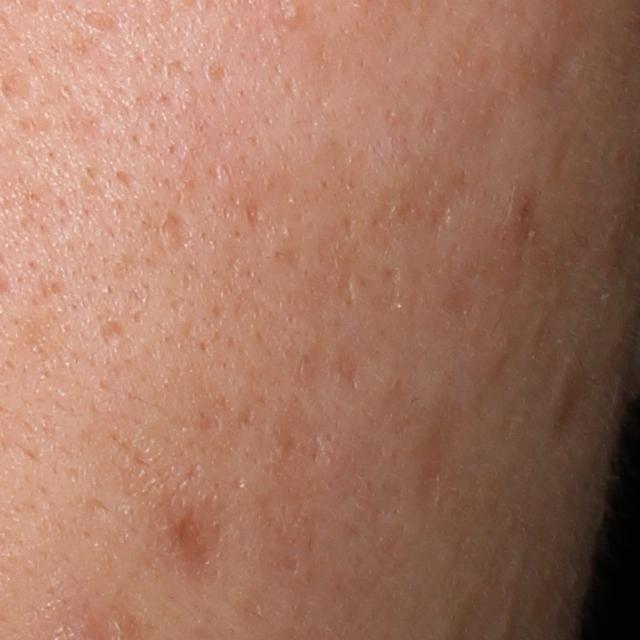atrophic_scar: (166, 478, 223, 606), (271, 399, 338, 486), (425, 166, 477, 231), (18, 193, 62, 242), (153, 210, 194, 257), (334, 240, 359, 306), (100, 318, 125, 350), (244, 199, 262, 235), (208, 59, 228, 83), (340, 214, 358, 240), (379, 264, 399, 281)
comedo: (283, 3, 308, 26)
